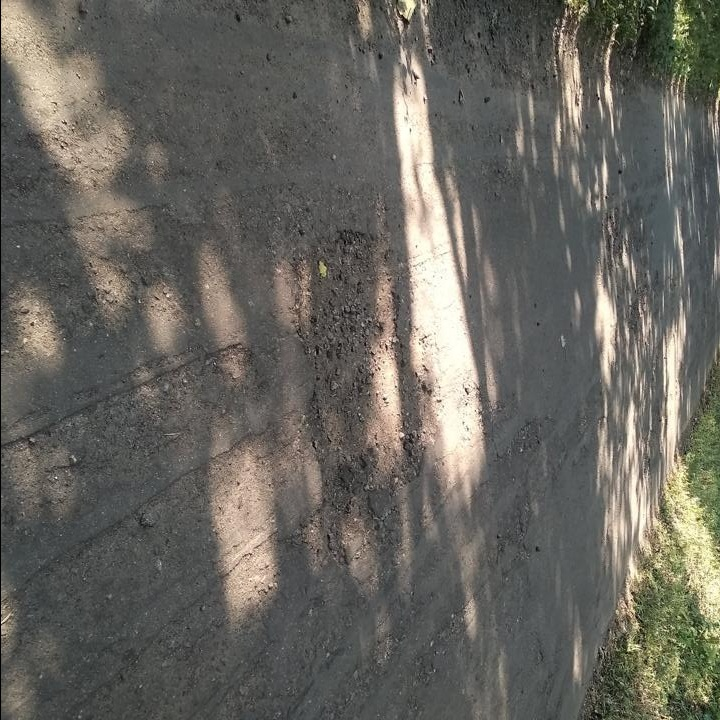pothole: (299, 217, 442, 507)
